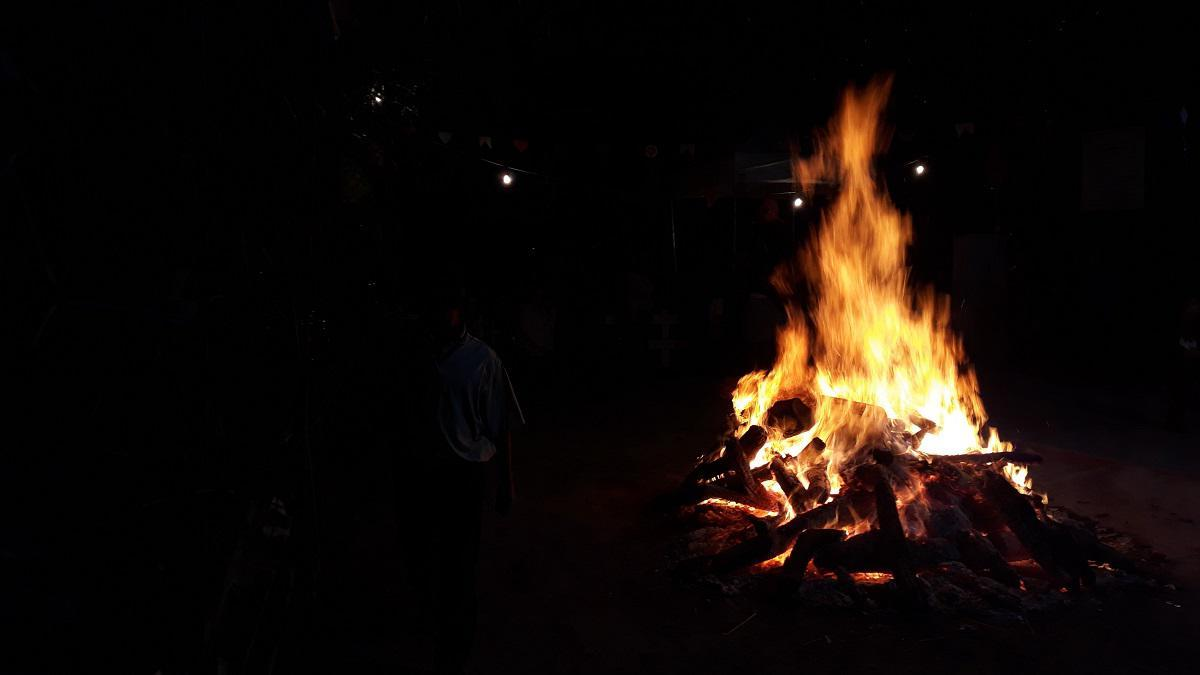Fire: (697, 75, 1051, 538), (756, 547, 799, 569), (851, 568, 899, 583)
